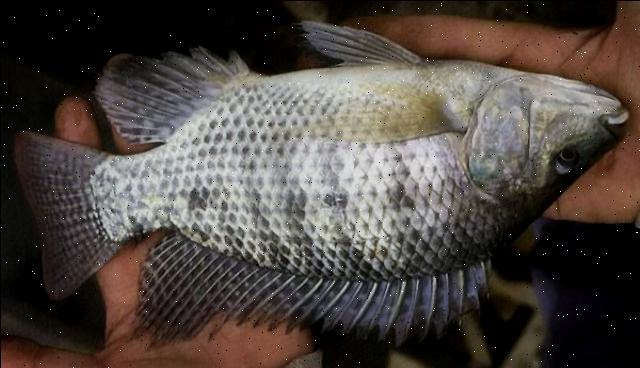Mulut: (580, 77, 636, 158)
Sirip Anal: (87, 40, 243, 144)
Sirip Dada: (301, 86, 473, 160)
Sirip Ekor: (8, 124, 134, 304)
Sirip Perut: (286, 10, 428, 76)
Sirip Punggung: (128, 233, 504, 354)
